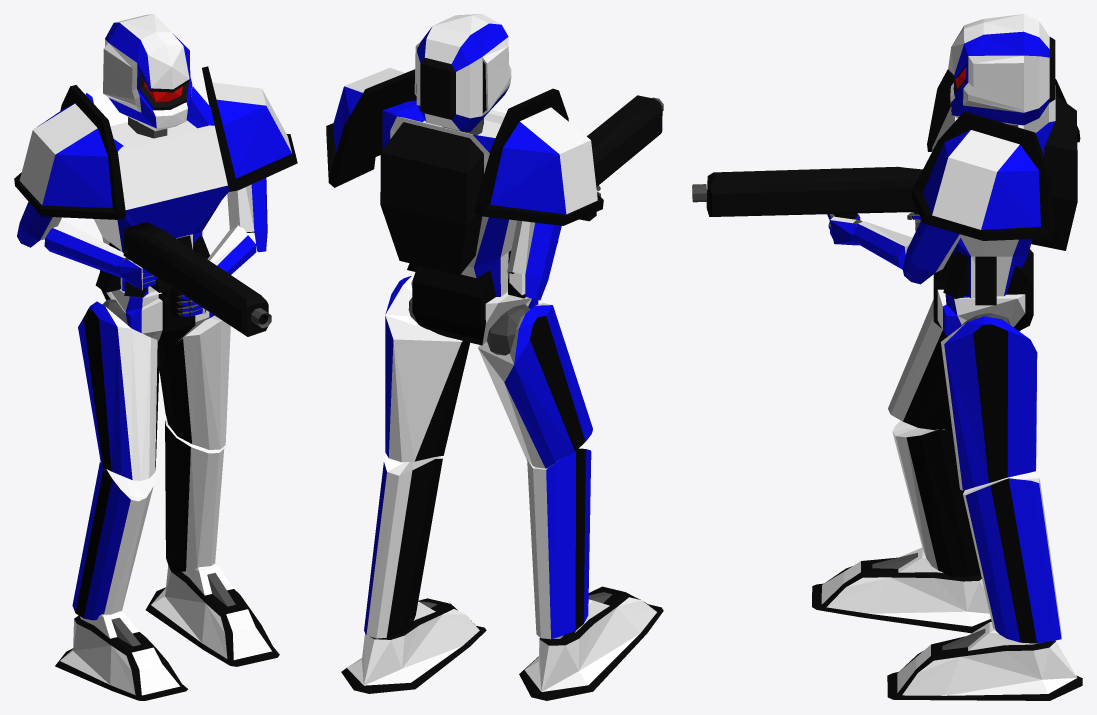
Rendered from robots_000005.obj.
3 renders of one model, left to right at view 1: azimuth 30°, elevation 25°; view 2: azimuth 150°, elevation 25°; view 3: azimuth 270°, elevation 25°, orthographic. The views are drawn at different scales.
Parts seen in each view (by area): view 1: Chest_plate_Cube.004, R_Thigh_Cube.005, Cube.002_Cube.059, Head_base_Cube.022, R_Shin_Cube.007, R_Foot.002_Cube.035, R_Thigh.002_Cube.027, Cube_Cube.001, R_Shin.002_Cube.029, R_Foot_Cube, Cube_Cube.021, Pelvis_Cube.006 (+5 smaller); view 2: Chest_plate_Cube.004, Cube.002_Cube.059, R_Thigh_Cube.005, R_Thigh.002_Cube.027, R_Shin_Cube.007, R_Shin.002_Cube.029, Head_base_Cube.022, R_Foot_Cube, R_Foot.002_Cube.035, Cube_Cube.021, Pelvis_Cube.006, Cube_Cube.001 (+2 smaller); view 3: Cube_Cube.021, R_Thigh.002_Cube.027, R_Shin.002_Cube.029, R_Foot.002_Cube.035, Head_base_Cube.022, Cube_Cube.001, R_Foot_Cube, Chest_plate_Cube.004, R_Shin_Cube.007, R_Thigh_Cube.005, Pelvis_Cube.006, L_Arm_Cube.014 (+3 smaller).
Part boxes in pixels (x1,y1,x2,y2): Chest_plate_Cube.004: (85,86,229,297); R_Thigh_Cube.005: (78,301,159,480); Cube.002_Cube.059: (14,85,125,219); Head_base_Cube.022: (103,14,192,131); R_Shin_Cube.007: (72,462,154,620); R_Foot.002_Cube.035: (145,563,279,666); R_Thigh.002_Cube.027: (159,315,230,449); Cube_Cube.001: (123,222,271,336); R_Shin.002_Cube.029: (165,419,224,572); R_Foot_Cube: (55,611,187,700); Cube_Cube.021: (202,66,297,191); Pelvis_Cube.006: (100,270,214,347); Chest_plate_Cube.004: (380,100,525,298); Cube.002_Cube.059: (474,88,603,225); R_Thigh_Cube.005: (478,303,592,468); R_Thigh.002_Cube.027: (385,275,469,462); R_Shin_Cube.007: (527,448,591,639); R_Shin.002_Cube.029: (364,453,442,638); Head_base_Cube.022: (414,14,511,131); R_Foot_Cube: (519,586,663,700); R_Foot.002_Cube.035: (341,598,486,693); Cube_Cube.021: (326,67,416,187); Pelvis_Cube.006: (411,265,538,345); Cube_Cube.001: (579,95,663,221); Cube_Cube.021: (911,111,1054,240); R_Thigh.002_Cube.027: (941,316,1037,490); R_Shin.002_Cube.029: (963,471,1061,643); R_Foot.002_Cube.035: (887,622,1082,700); Head_base_Cube.022: (948,14,1055,125); Cube_Cube.001: (692,166,922,220); R_Foot_Cube: (812,547,991,633); Chest_plate_Cube.004: (932,85,1077,305); R_Shin_Cube.007: (892,421,980,577); R_Thigh_Cube.005: (888,299,1020,430); Pelvis_Cube.006: (933,249,1033,336); L_Arm_Cube.014: (902,220,961,284).
Size of the model in its own units: 1.32 by 3.04 by 1.69.
